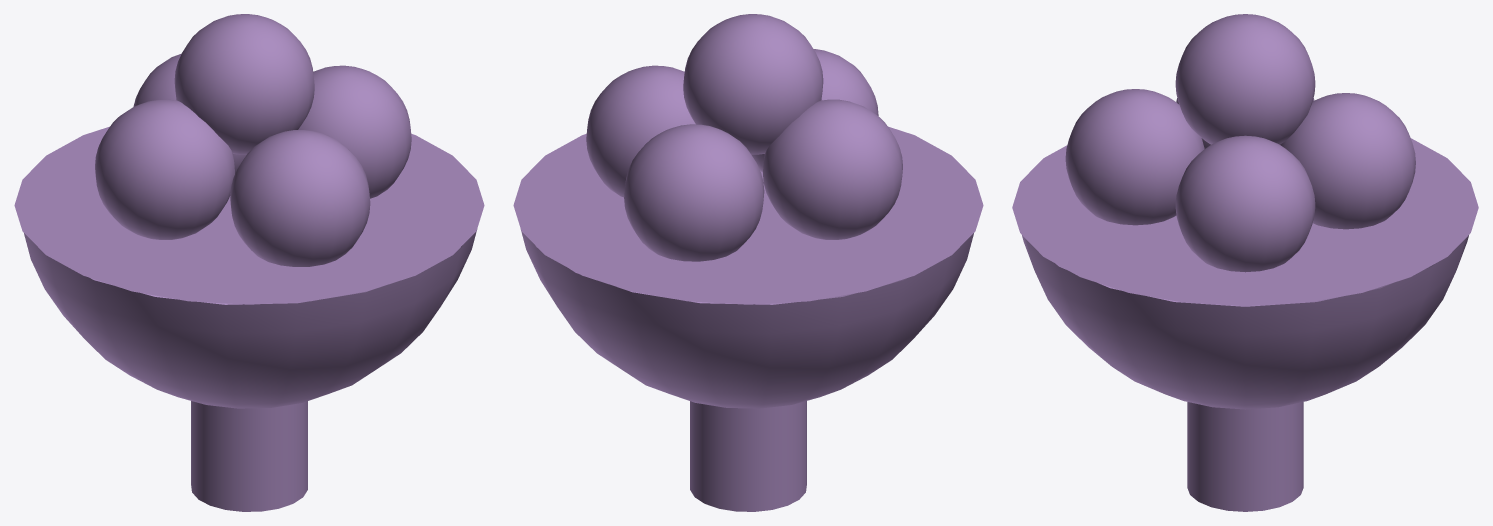
The model's file is Frutero.obj.
The picture shows the model from 3 angles, left to right: view 1: azimuth 30°, elevation 25°; view 2: azimuth 150°, elevation 25°; view 3: azimuth 270°, elevation 25°; orthographic projection.
Parts seen in each view (by area): view 1: group2_pasted__pSphere2; view 2: group2_pasted__pSphere2; view 3: group2_pasted__pSphere2.
Boxes of the visible parts, <box> form: group2_pasted__pSphere2: <box>14,14,484,511</box>; group2_pasted__pSphere2: <box>513,14,983,511</box>; group2_pasted__pSphere2: <box>1012,14,1478,511</box>.
Bounding box in the file's own units: 200 × 220 × 200.
1 material, 1 textured.
